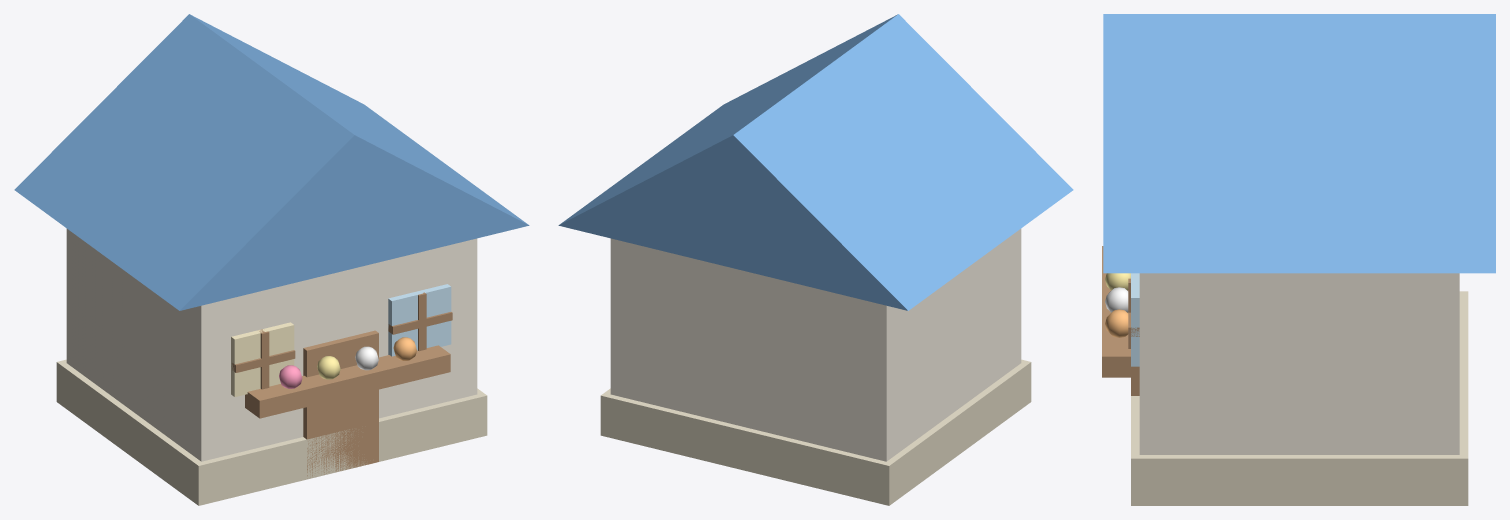
File: rumahw0.glb
3 views of the same model, side by side, from view 1: azimuth 30°, elevation 25°; view 2: azimuth 150°, elevation 25°; view 3: azimuth 270°, elevation 25° (orthographic). The views are drawn at different scales.
Parts seen in each view (by area): view 1: rumahw0; view 2: rumahw0; view 3: rumahw0.
Part boxes in pixels (<box>): rumahw0: <box>14,14,529,505</box>; rumahw0: <box>558,14,1073,505</box>; rumahw0: <box>1102,14,1495,505</box>.
Size of the model in its own units: 1.65 by 1.55 by 1.36.
